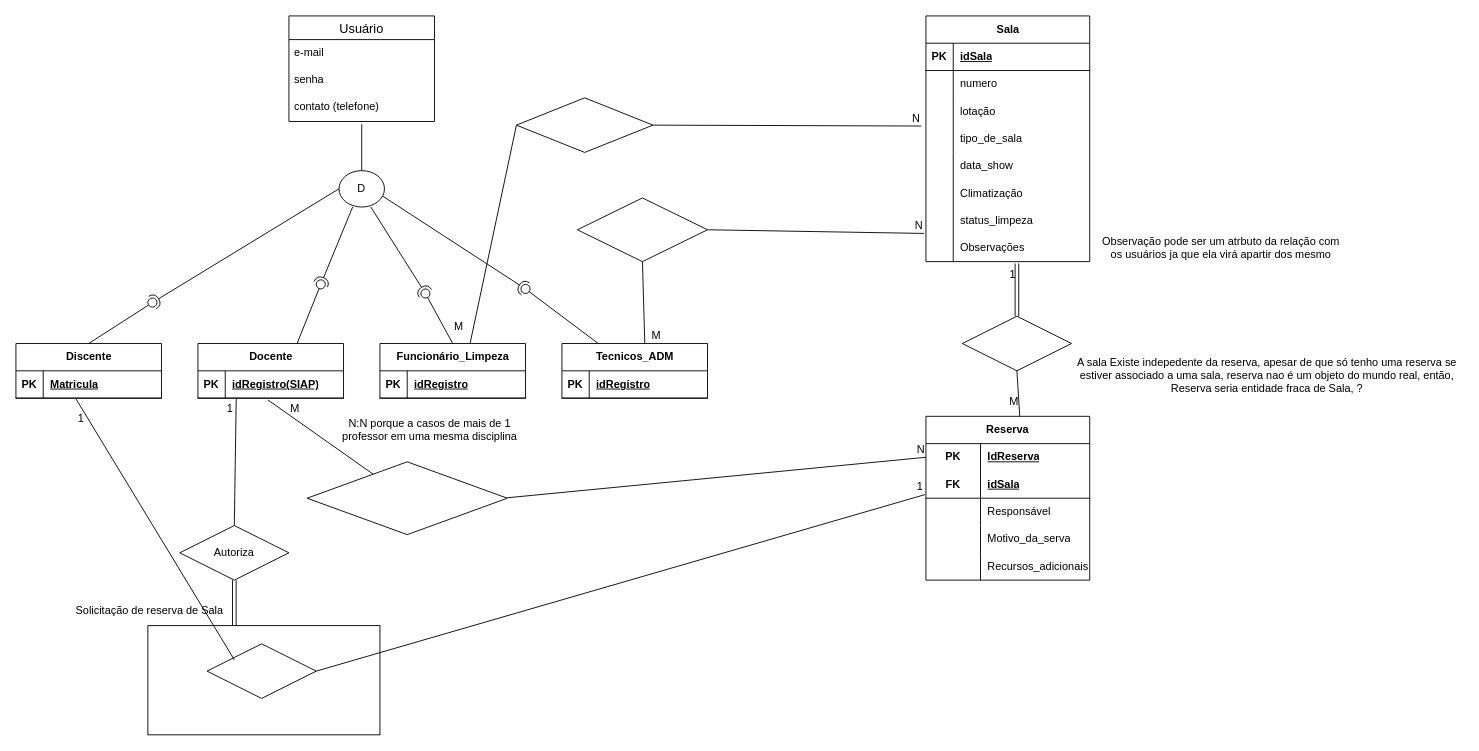
Some shapes in this 1479 by 751 pixel diagram are drawn without their labels. The centre of each missing label's shape, as x and y in pixels:
Alocar turmas do semestre: point 642,229
Limpeza/manutenção: point 584,124
Possui: point 1016,343
Solicita: point 261,670
solicita as chaves/ ou nova reserva: point 406,498
